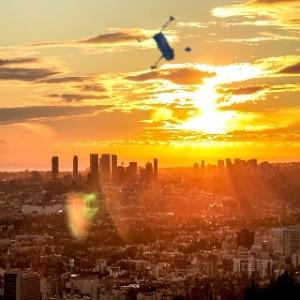drone: (131, 4, 215, 88)
